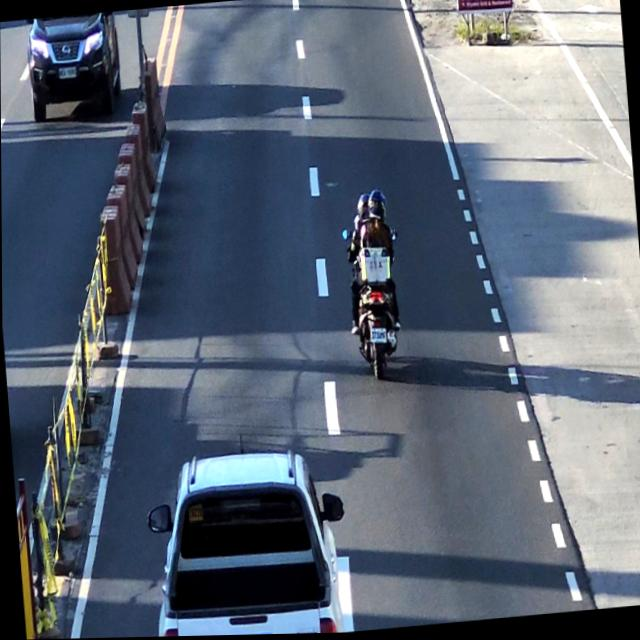Car: (142, 443, 351, 638)
License-Plate: (366, 326, 390, 350)
Motorcycle: (340, 189, 403, 382)
